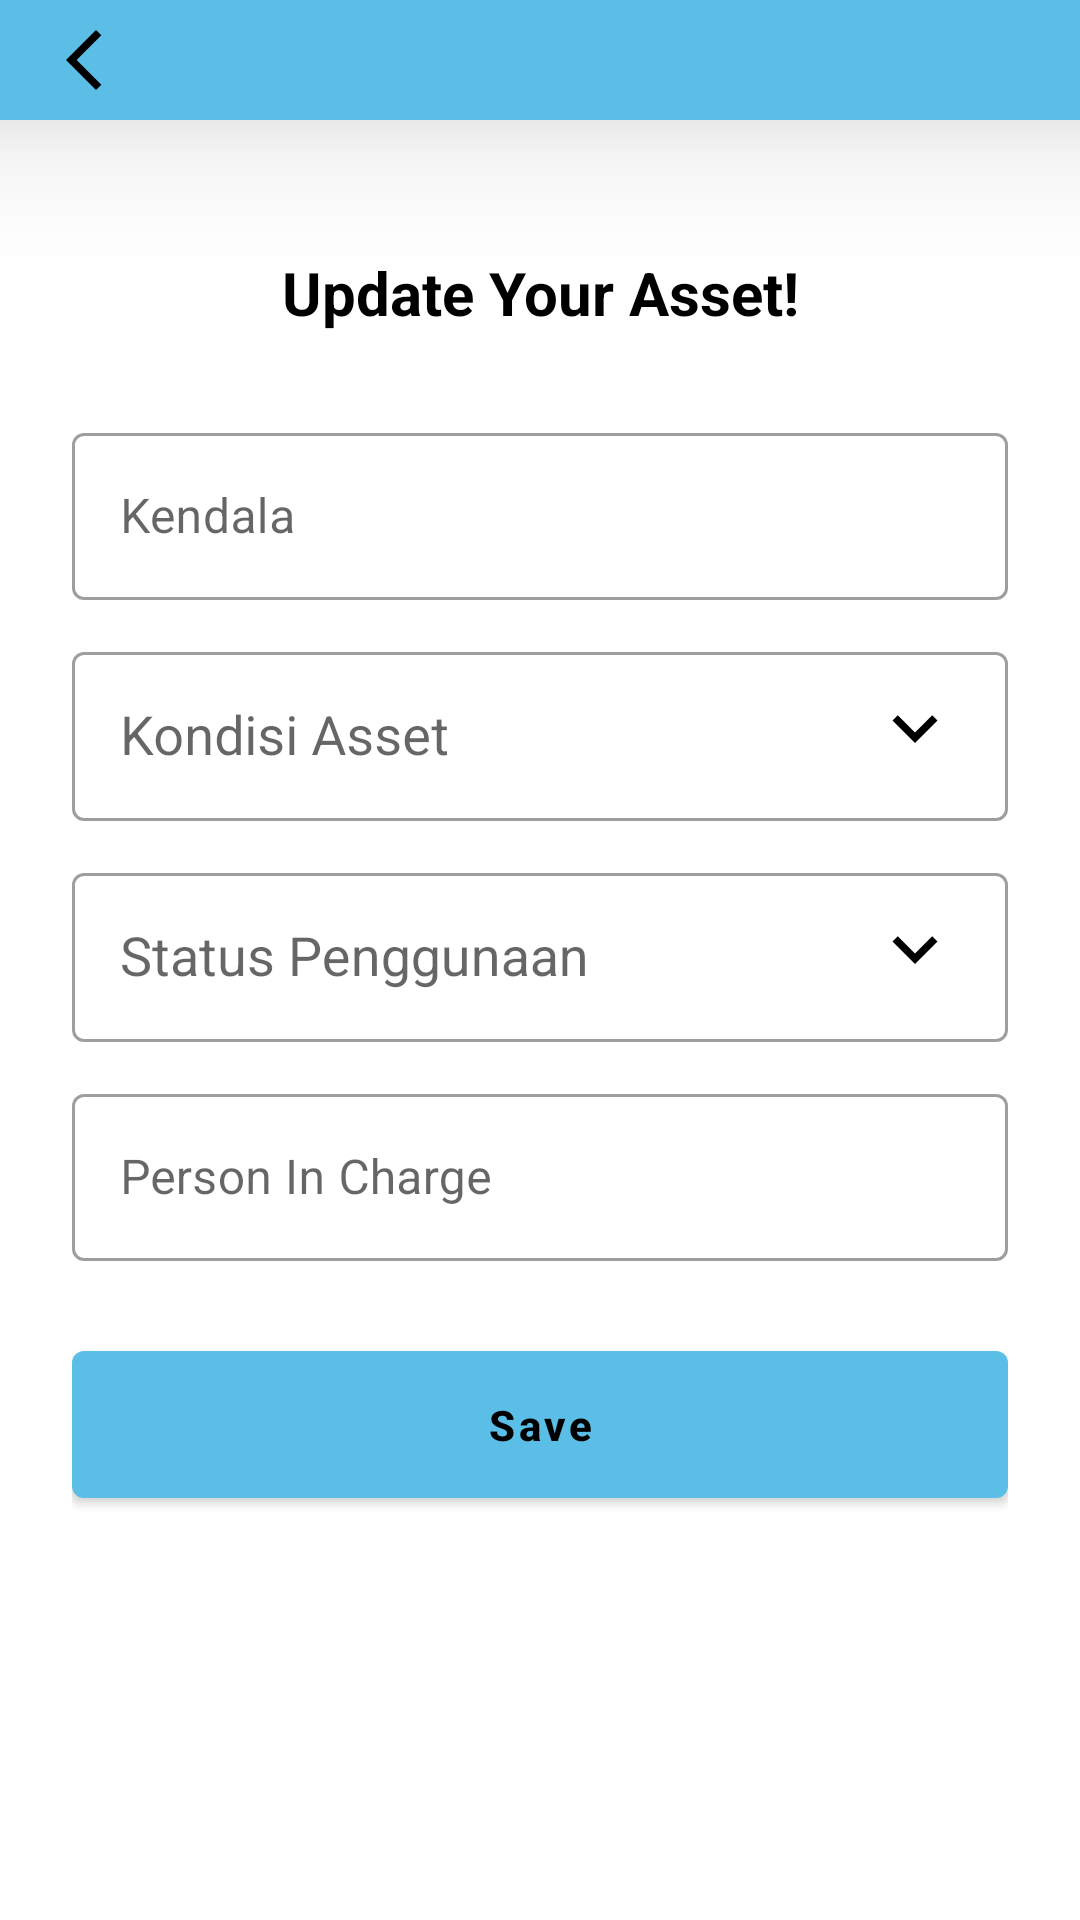

Icons on this 1080 x 1920 Android screen, each with its box as (x1, y1, x2, y2):
dropdown: (892, 715, 938, 743), (892, 936, 938, 964)
